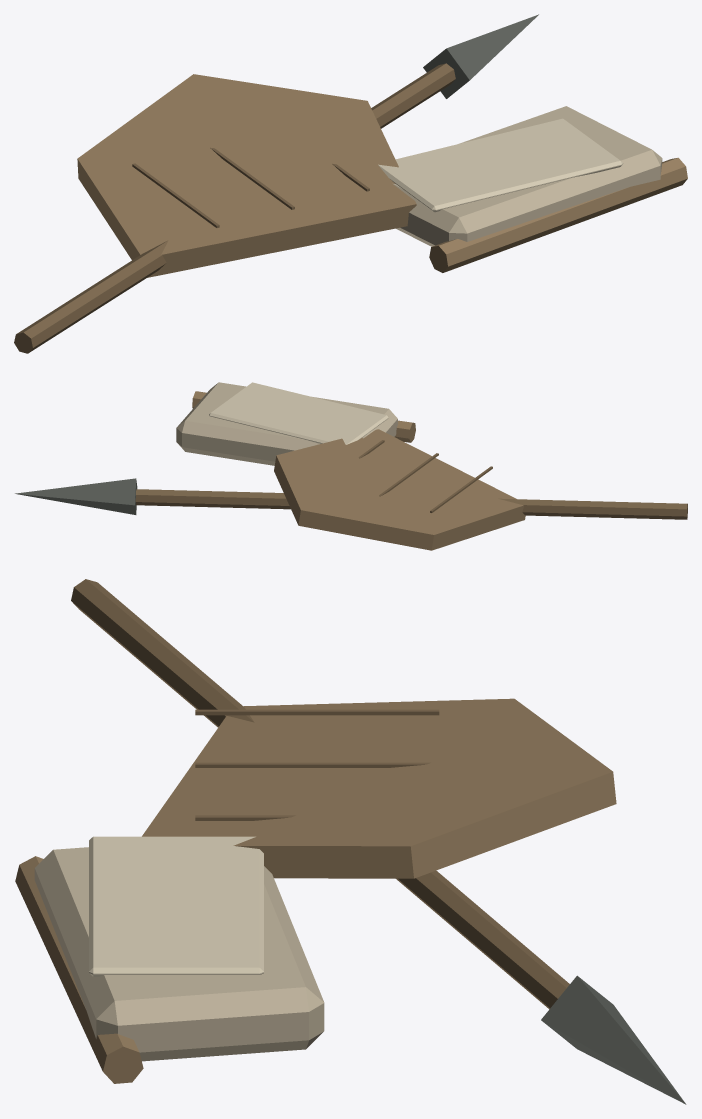
File: discarded_equipment.glb
The picture shows the model from 3 angles, top to bottom: view 1: azimuth 30°, elevation 25°; view 2: azimuth 150°, elevation 25°; view 3: azimuth 270°, elevation 25°; orthographic projection. The views are drawn at different scales.
Parts seen in each view (by area): view 1: discarded_equipment_oak, discarded_equipment_camp_canvas, discarded_equipment_camp_canvas_shadow, discarded_equipment_oak_dark, discarded_equipment_camp_iron; view 2: discarded_equipment_oak, discarded_equipment_camp_canvas, discarded_equipment_oak_dark, discarded_equipment_camp_canvas_shadow, discarded_equipment_camp_iron; view 3: discarded_equipment_oak, discarded_equipment_camp_canvas_shadow, discarded_equipment_camp_canvas, discarded_equipment_oak_dark, discarded_equipment_camp_iron.
Part boxes in pixels (box(x1,y1,x2,y2)): discarded_equipment_oak: box(77, 74, 687, 277); discarded_equipment_camp_canvas: box(378, 118, 623, 212); discarded_equipment_camp_canvas_shadow: box(392, 106, 662, 246); discarded_equipment_oak_dark: box(14, 63, 455, 353); discarded_equipment_camp_iron: box(423, 14, 538, 98); discarded_equipment_oak: box(192, 391, 525, 550); discarded_equipment_camp_canvas: box(209, 382, 388, 444); discarded_equipment_oak_dark: box(135, 440, 687, 519); discarded_equipment_camp_canvas_shadow: box(176, 382, 397, 465); discarded_equipment_camp_iron: box(15, 478, 137, 514); discarded_equipment_oak: box(15, 698, 616, 1083); discarded_equipment_camp_canvas_shadow: box(34, 847, 324, 1061); discarded_equipment_camp_canvas: box(89, 836, 263, 976); discarded_equipment_oak_dark: box(71, 579, 569, 1009); discarded_equipment_camp_iron: box(541, 975, 686, 1104).
Size of the model in its own units: 1.94 by 0.1907 by 1.07.
